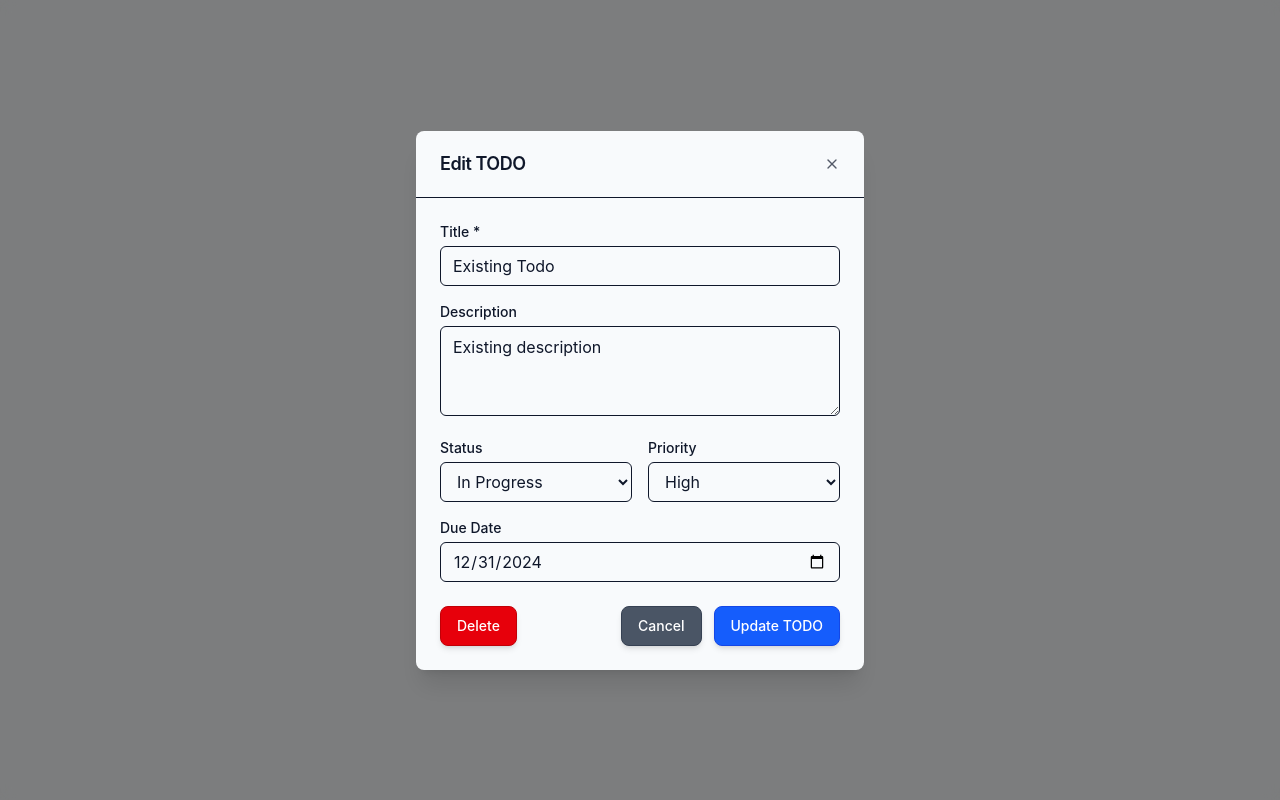
Test: TodoEditForm › shows validation error when title is cleared
Clear the field labelled "Title *" at (640, 266), box [440, 246, 840, 286]
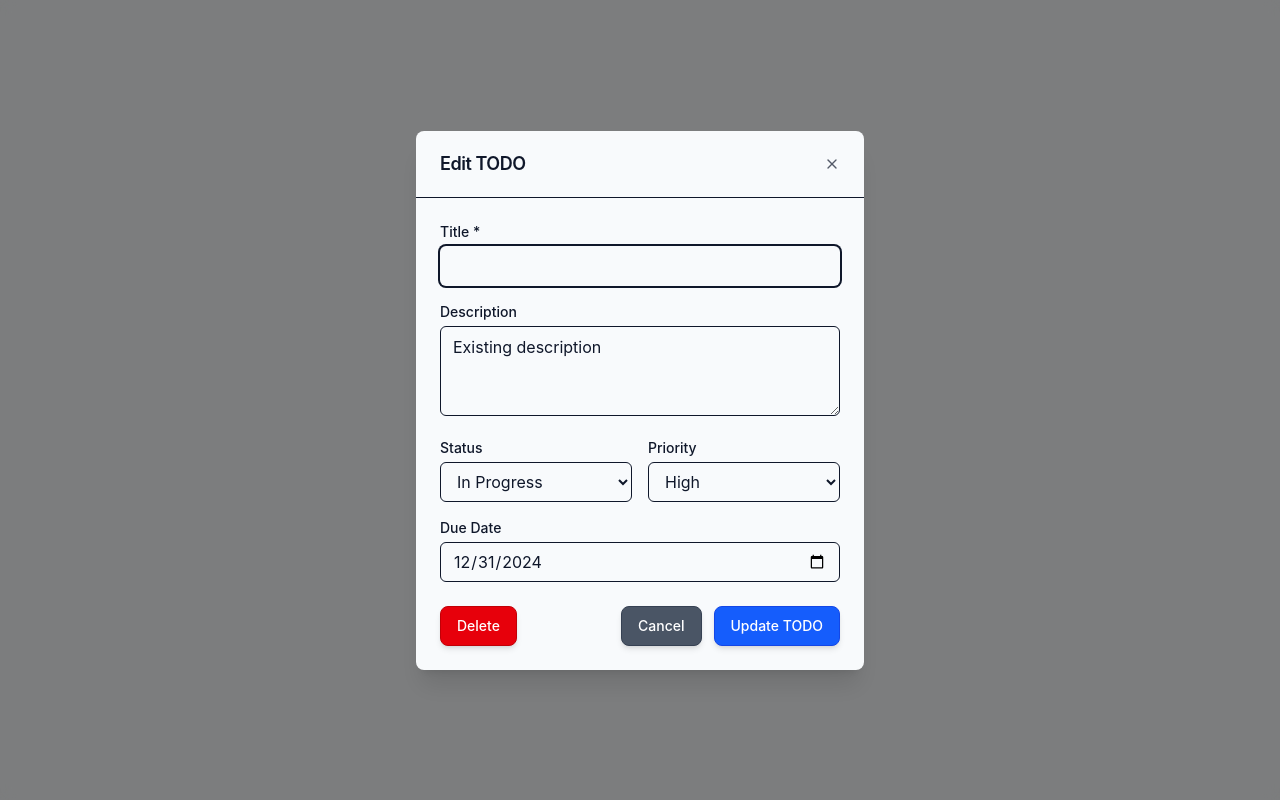
Click the button "Update TODO" at (777, 626), box [714, 606, 840, 646]
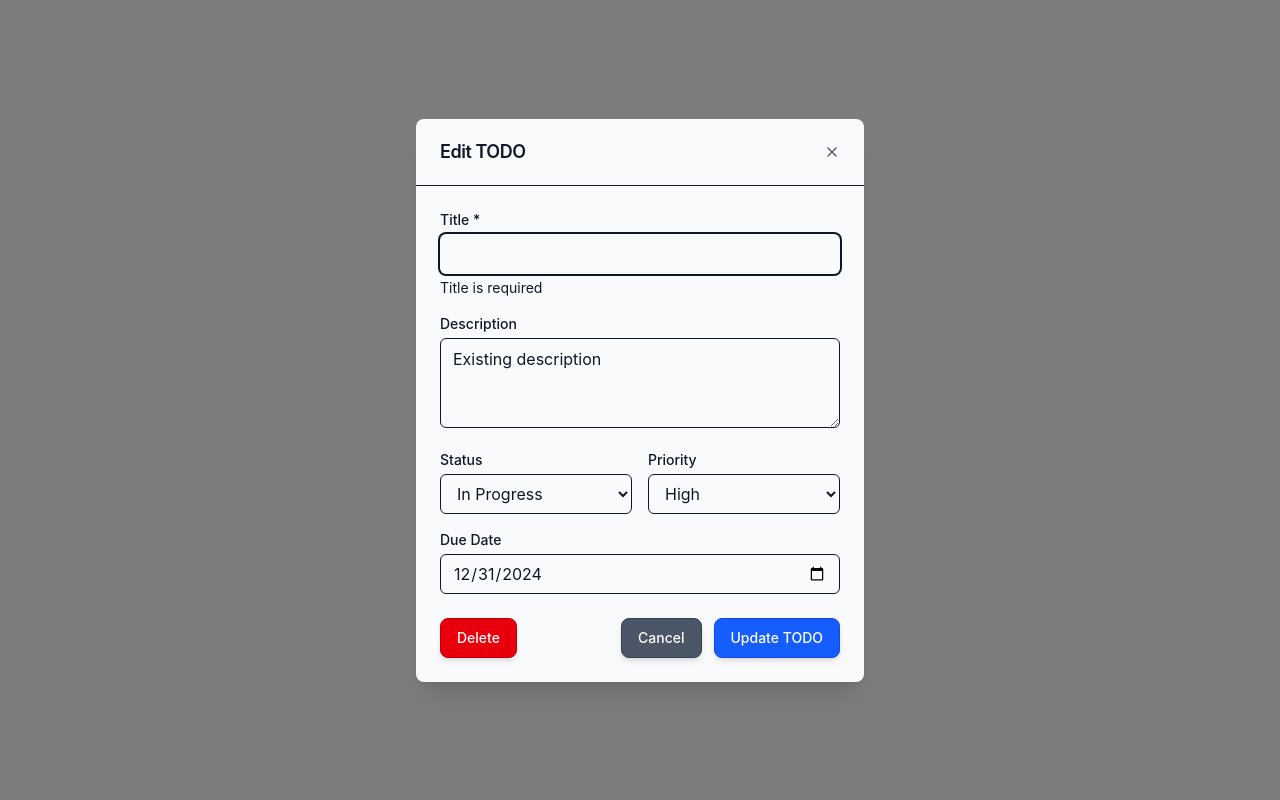
Result: the text "Title is required" is shown at [440, 278, 542, 296]
